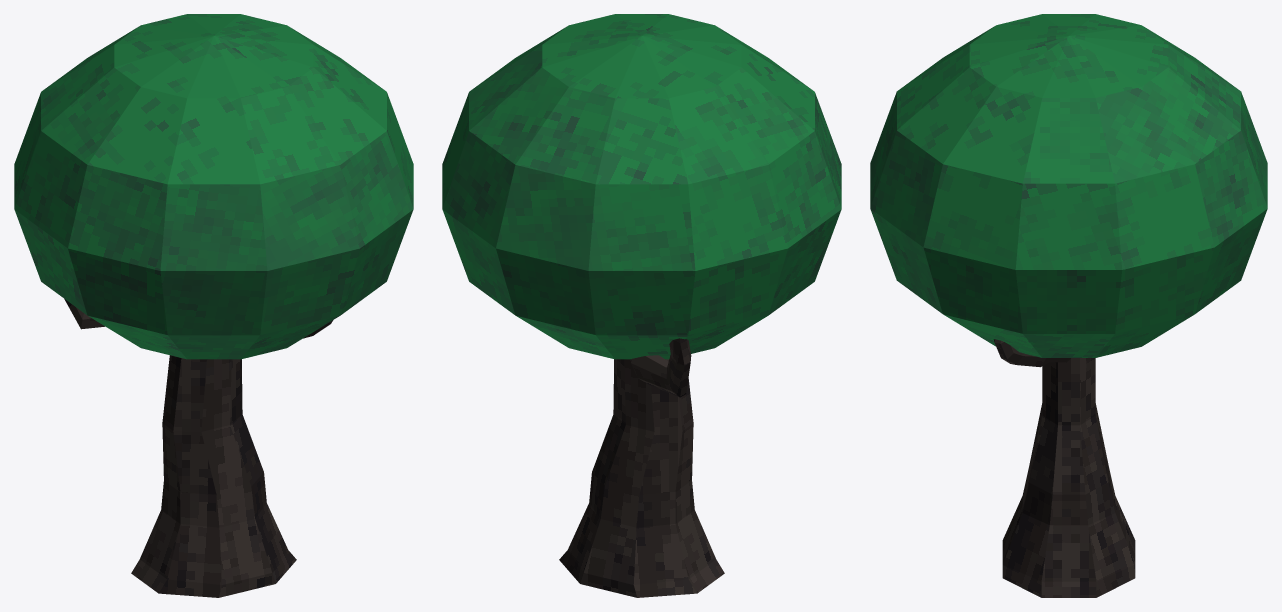
File: tree_2.gltf
The picture shows the model from 3 angles, left to right: view 1: azimuth 30°, elevation 25°; view 2: azimuth 150°, elevation 25°; view 3: azimuth 270°, elevation 25°; orthographic projection.
Visible parts, largest first — view 1: sphere, cylinder; view 2: sphere, cylinder (×2); view 3: sphere, cylinder (×2).
Boxes of the visible parts, x1=… form: sphere: x1=14, y1=14, x2=413, y2=359; cylinder: x1=131, y1=355, x2=296, y2=597; sphere: x1=442, y1=14, x2=841, y2=359; cylinder (×2): x1=559, y1=338, x2=724, y2=597; sphere: x1=870, y1=14, x2=1267, y2=357; cylinder (×2): x1=993, y1=339, x2=1135, y2=597.
Bounding box in the file's own units: 1.5 × 2.2 × 1.5.
Materials: 2 (2 with a texture image).
